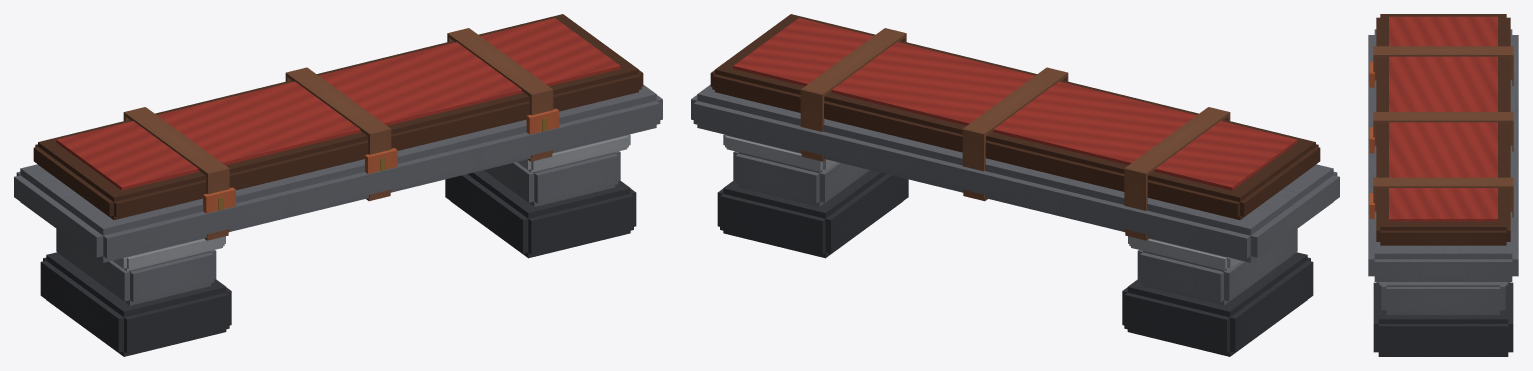
File: bench_quarry_slab.glb
3 views of the same model, side by side, from view 1: azimuth 30°, elevation 25°; view 2: azimuth 150°, elevation 25°; view 3: azimuth 270°, elevation 25° (orthographic). The views are drawn at different scales.
Parts seen in each view (by area): view 1: bench_quarry_slab; view 2: bench_quarry_slab; view 3: bench_quarry_slab.
Part boxes in pixels (x1,y1,x2,y2): bench_quarry_slab: [14, 14, 662, 356]; bench_quarry_slab: [691, 14, 1339, 356]; bench_quarry_slab: [1368, 14, 1518, 356].
Size of the model in its own units: 2.1 by 0.588 by 0.58.
Materials: 1 (1 with a texture image).
